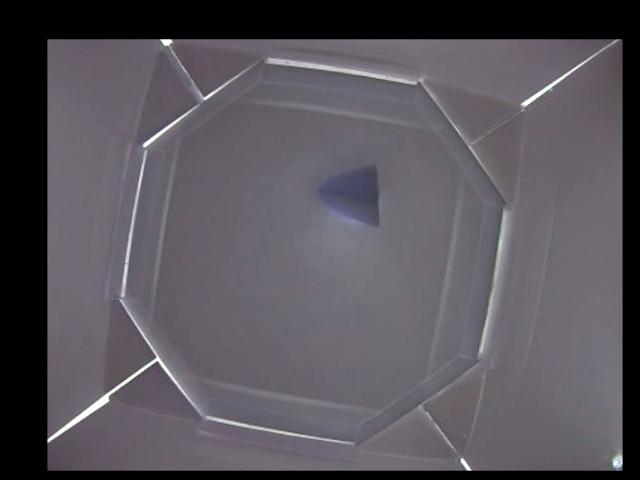Mooli: (315, 162, 382, 228)
